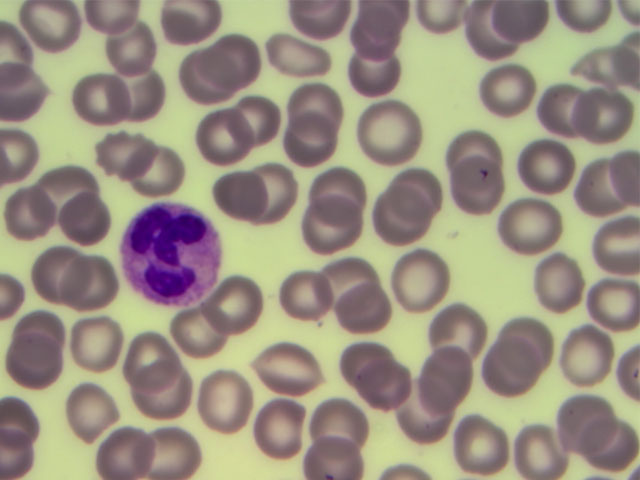RBC: (144, 423, 207, 480), (306, 423, 369, 480), (513, 423, 576, 480), (64, 71, 127, 127), (107, 64, 170, 120), (96, 17, 159, 73), (202, 28, 265, 84), (153, 62, 216, 118), (231, 91, 294, 147), (199, 109, 262, 165), (211, 166, 274, 222), (243, 167, 306, 223), (301, 162, 364, 218), (304, 200, 367, 256), (279, 113, 342, 169), (285, 88, 348, 144), (271, 24, 334, 80), (353, 49, 416, 105), (346, 7, 409, 63), (362, 103, 425, 159), (372, 195, 435, 251), (400, 157, 463, 213), (452, 165, 515, 221), (446, 128, 509, 184), (524, 139, 587, 195), (570, 92, 633, 148), (528, 79, 591, 135), (483, 63, 546, 119), (466, 3, 529, 59), (501, 201, 564, 257), (532, 247, 595, 303), (546, 323, 609, 379), (576, 291, 639, 347), (496, 302, 559, 358), (478, 341, 541, 397), (429, 300, 492, 356), (409, 346, 472, 402), (397, 377, 460, 433), (365, 358, 428, 414), (332, 330, 395, 386), (391, 249, 454, 305), (328, 287, 391, 343), (309, 261, 372, 317), (274, 262, 337, 318), (215, 269, 278, 325), (181, 302, 244, 358), (132, 318, 195, 374), (127, 358, 190, 414), (67, 382, 130, 438), (91, 417, 154, 473), (191, 372, 254, 428), (253, 394, 316, 450), (263, 340, 326, 396), (308, 398, 371, 454), (445, 414, 508, 470), (544, 389, 607, 445), (573, 157, 636, 213), (37, 162, 100, 218), (48, 190, 111, 246), (3, 182, 66, 238), (85, 128, 148, 184), (128, 148, 191, 204), (14, 244, 77, 300), (62, 255, 125, 311), (66, 311, 129, 367), (2, 337, 65, 393), (7, 301, 70, 357), (576, 32, 639, 88), (21, 1, 84, 56)
WBC: (120, 200, 223, 310)
